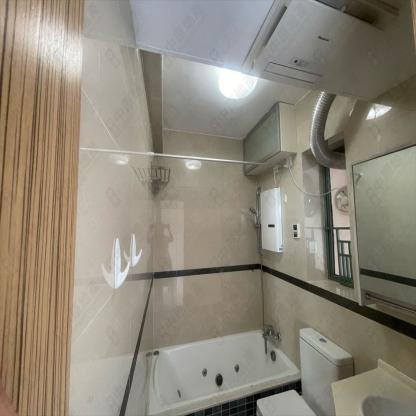Bathtub: (140, 329, 300, 415)
Exhaust Fan: (332, 187, 350, 213)
Thermo Ventilator: (240, 1, 399, 91)
Toilet: (256, 324, 354, 415)
Toilet Sink: (361, 397, 416, 415)
